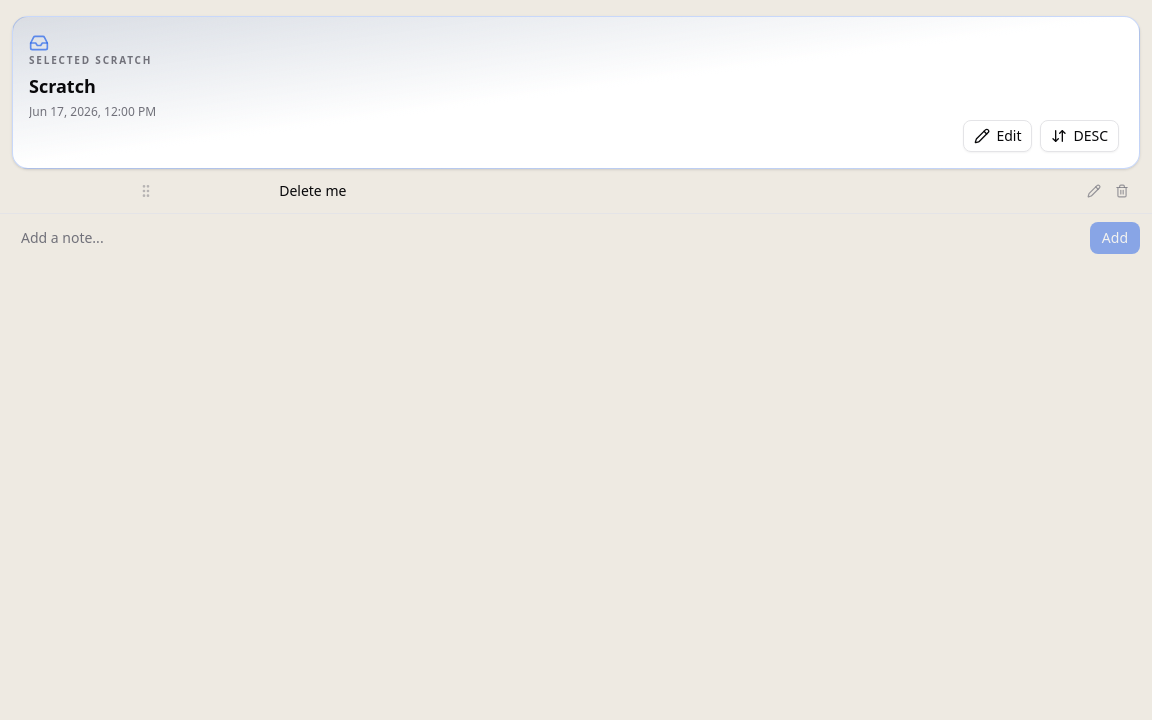
it: BreakdownPanel › deletes the selected row when confirming the dialog
The width and height of the screenshot is (1152, 720).
Click the button named "Delete". click: (1122, 191)
box: [1108,177,1136,205]
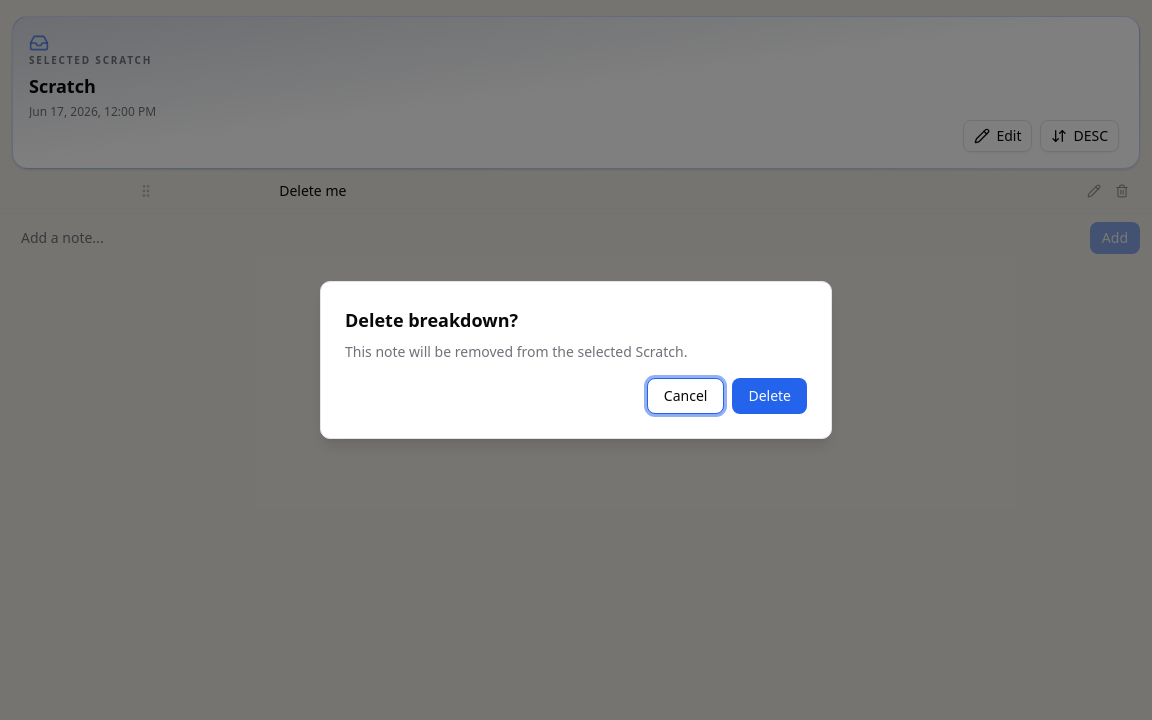
Click the button "Delete". click: (770, 396)
box: [732,378,807,414]
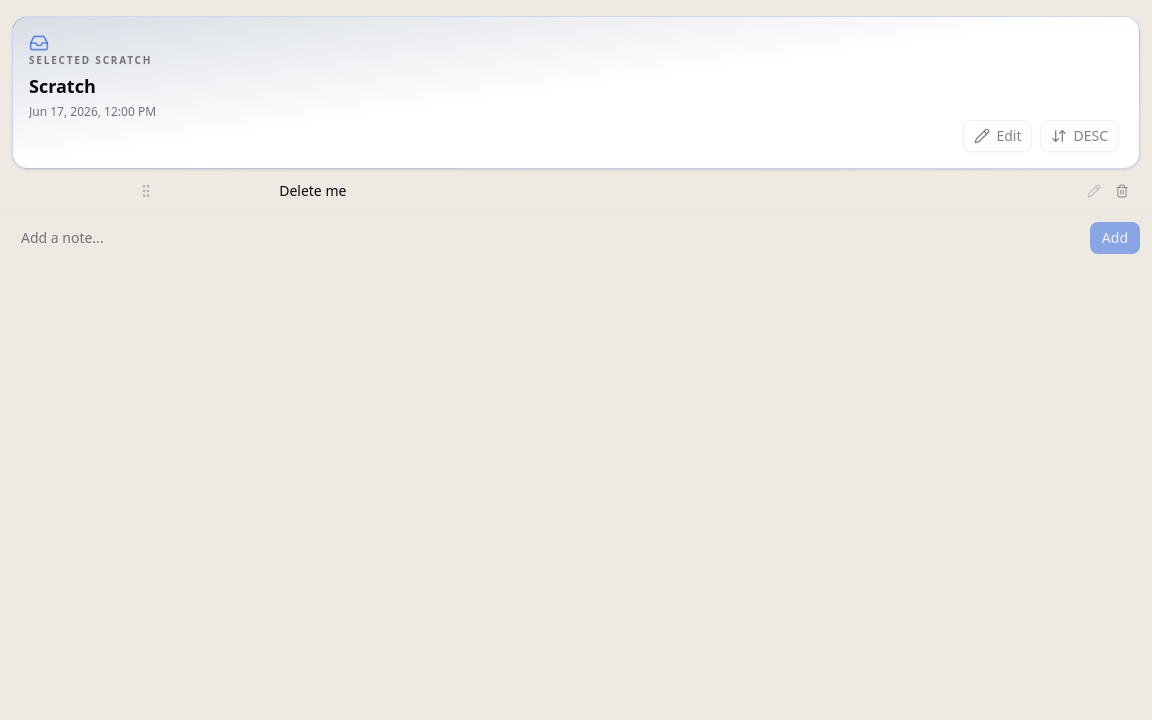
Result: the dialog is gone
